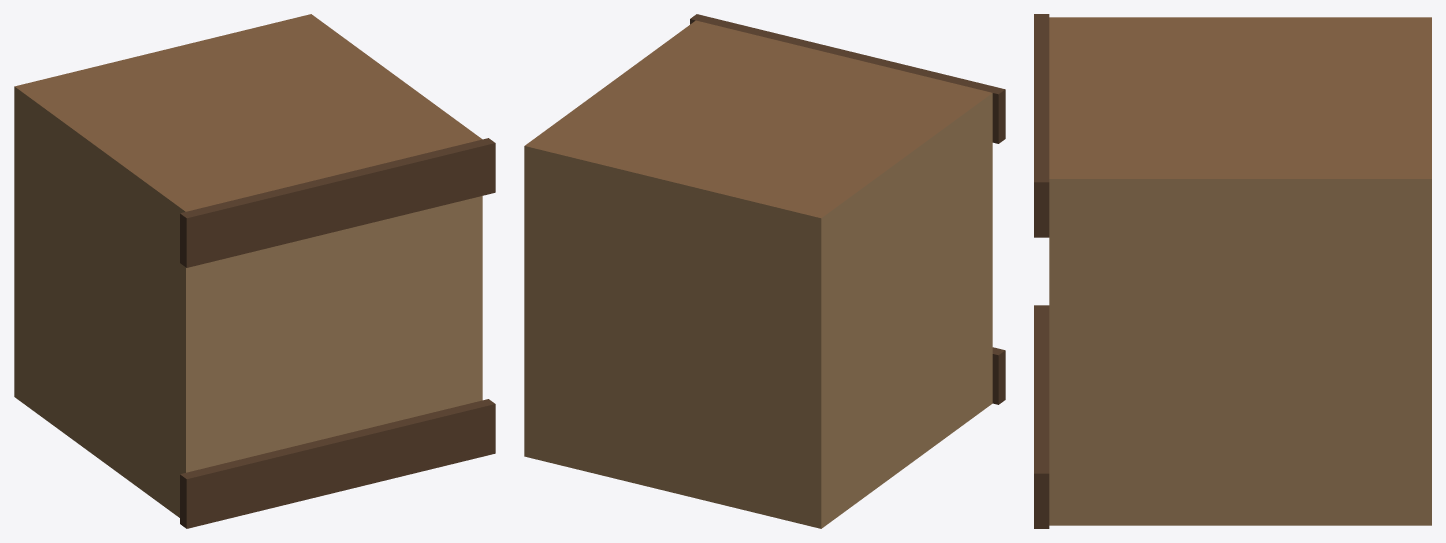
The model's file is crate.glb.
3 renders of one model, left to right at view 1: azimuth 30°, elevation 25°; view 2: azimuth 150°, elevation 25°; view 3: azimuth 270°, elevation 25°, orthographic. The views are drawn at different scales.
Visible parts, largest first — view 1: crate; view 2: crate; view 3: crate.
Part boxes in pixels (x1,y1,x2,y2): crate: (14,14,495,528); crate: (524,14,1005,528); crate: (1034,14,1431,528).
Bounding box in the file's own units: 0.52 × 0.5 × 0.52.
